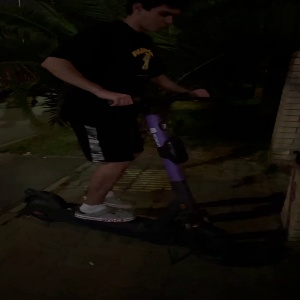human on a scooter: (21, 1, 243, 262)
